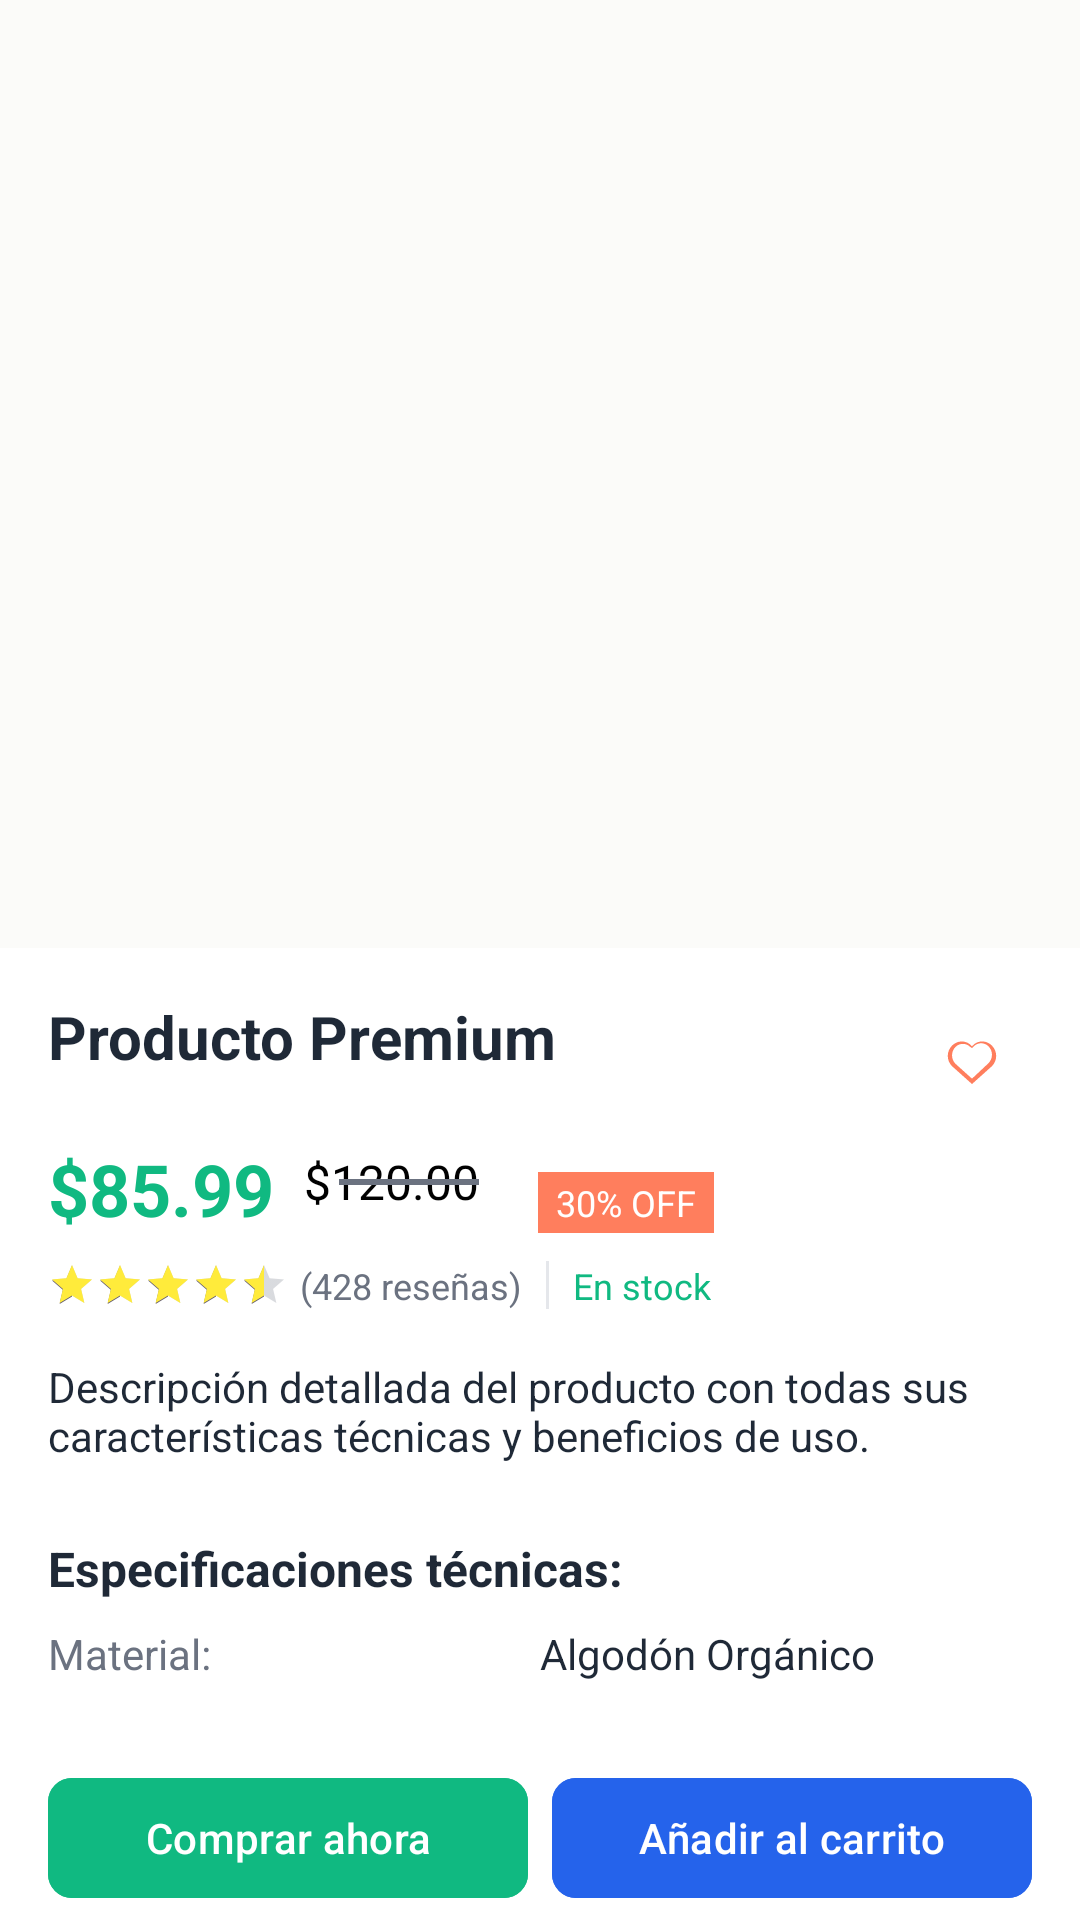

Icon bounding boxes for this 1080px x 1920px phone screenshot, format rect(x1, y1, x2, y2):
favorite border: rect(947, 1041, 997, 1084)
